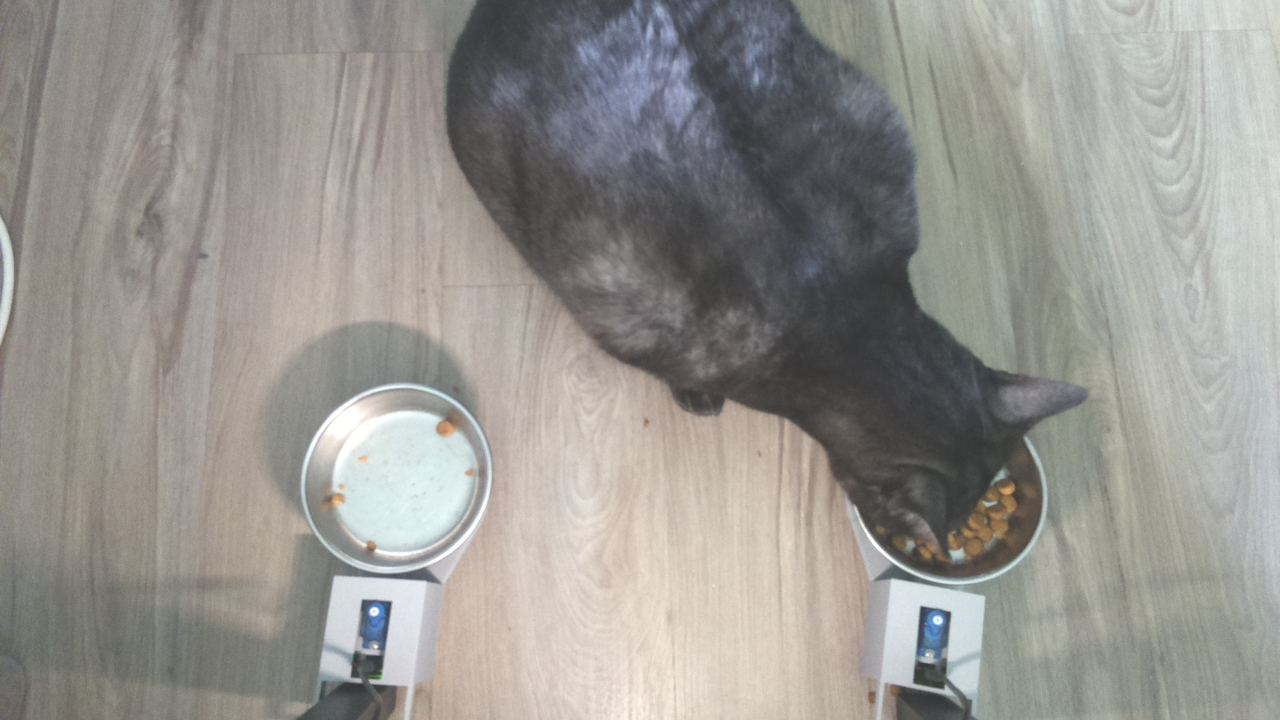open_bowl: (298, 376, 495, 578)
saki_eating: (822, 301, 1102, 571)
